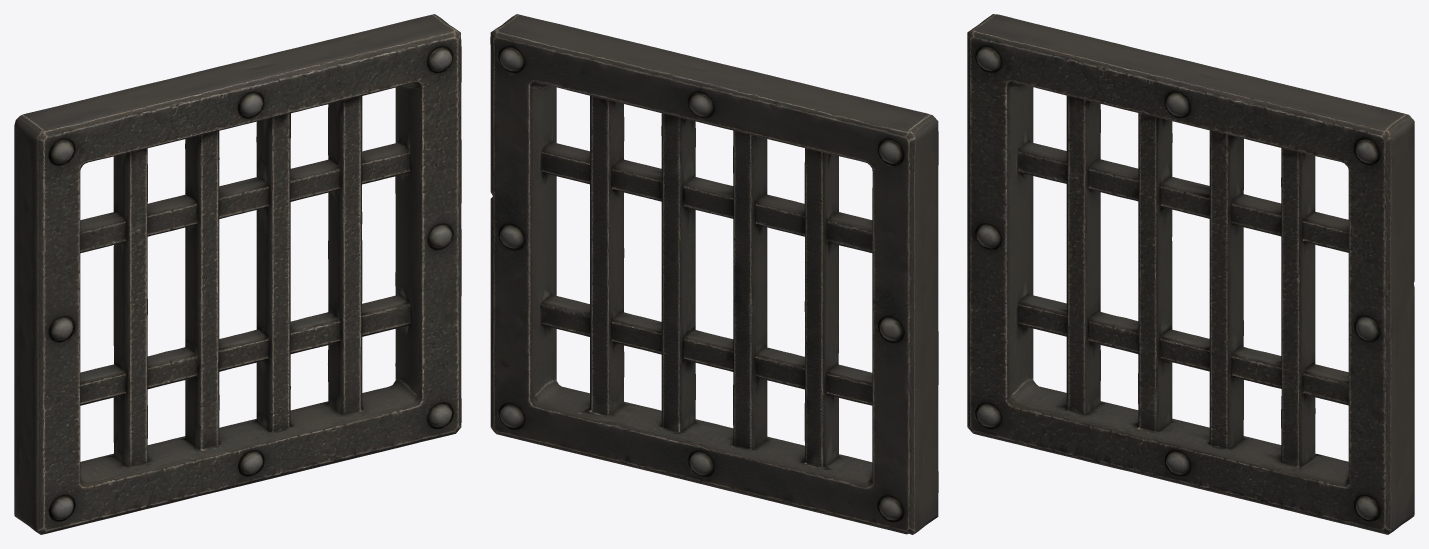
File: Sewer_Grate_Square.fbx
3 renders of one model, left to right at view 1: azimuth 30°, elevation 25°; view 2: azimuth 150°, elevation 25°; view 3: azimuth 330°, elevation 25°, orthographic.
Visible parts, largest first — view 1: Sewer_Grate_Square; view 2: Sewer_Grate_Square; view 3: Sewer_Grate_Square.
Boxes of the visible parts, x1,y1,x2,y2 form: Sewer_Grate_Square: (14,14,461,534); Sewer_Grate_Square: (490,14,938,534); Sewer_Grate_Square: (967,14,1414,534).
Size of the model in its own units: 149 by 135 by 19.93.
Materials: 1 (1 with a texture image).
